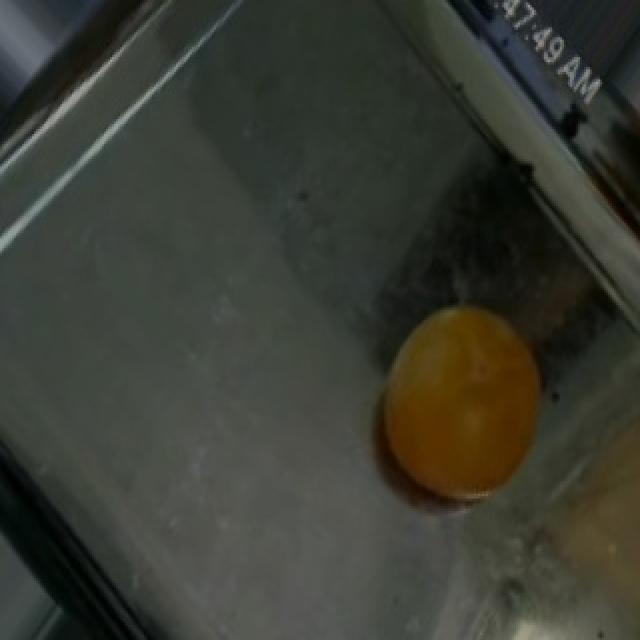Fruit: (358, 278, 572, 523)
